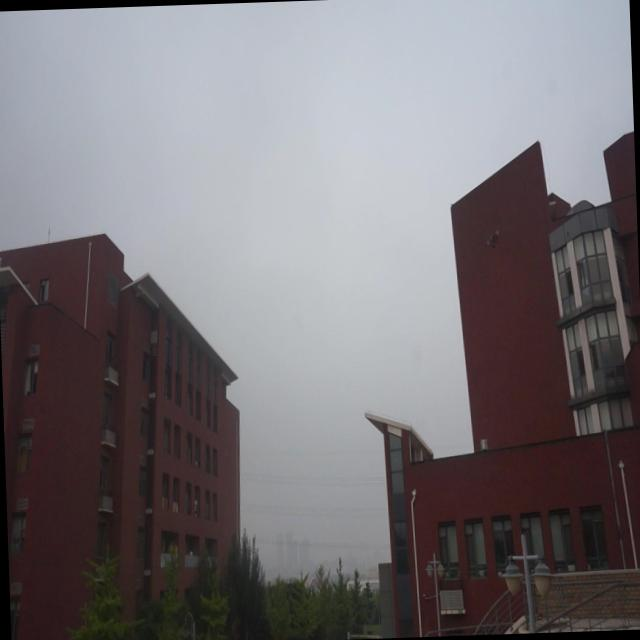drone: (484, 222, 504, 254)
